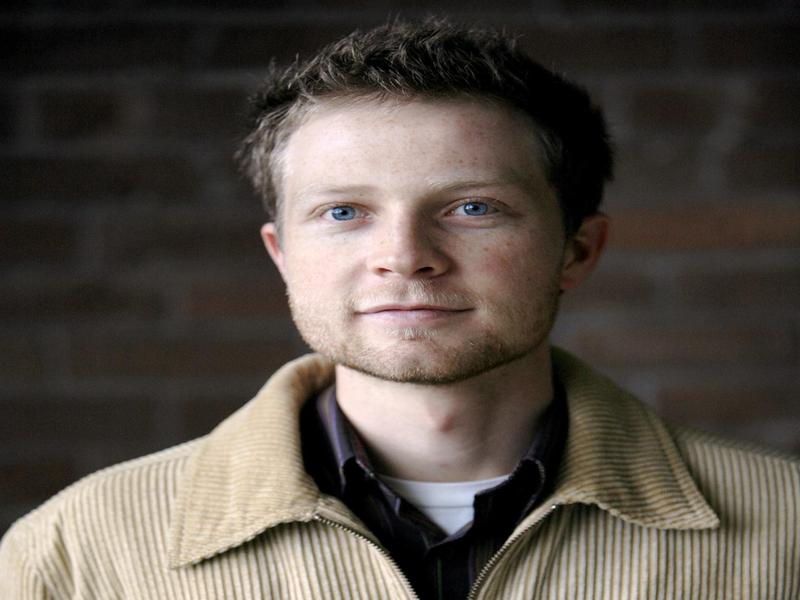person: (1, 24, 795, 600)
